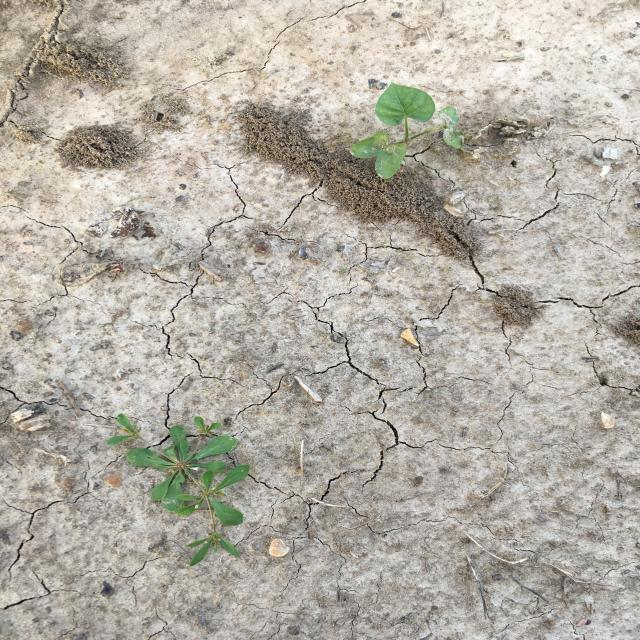Carpetweed: (104, 411, 253, 569)
MorningGlory: (348, 81, 468, 181)
